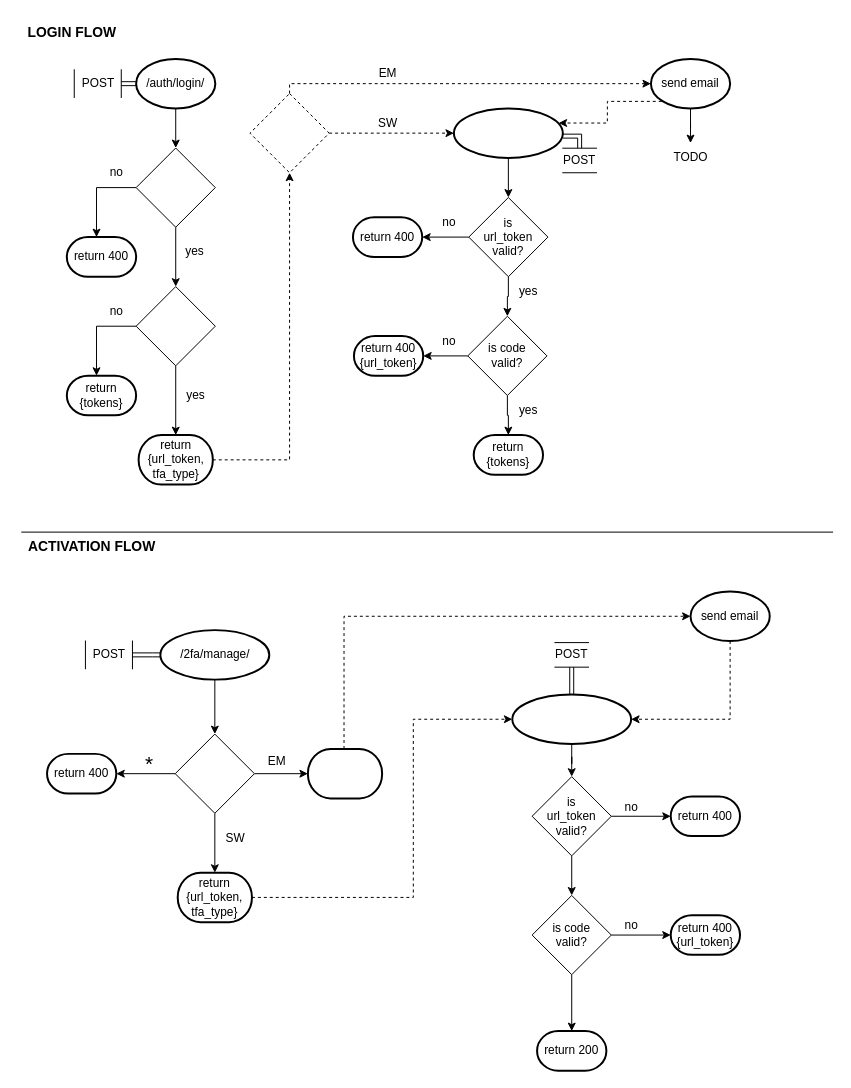
The diagram is 851 pixels wide and 1088 high, and some of its shapes have lost their labels. Here are the shapes that lost their labels. From the top down, the box of each, then its label:
(249, 93, 329, 173): 2fa type?
(452, 107, 563, 158): /2fa/validate/login/
(135, 147, 215, 227): are credentials valid?
(135, 286, 215, 366): is 2FA active?
(511, 693, 632, 744): /2fa/validate/activate/
(174, 733, 254, 813): what tfa_type is?
(306, 747, 383, 799): return {tfa_type}
